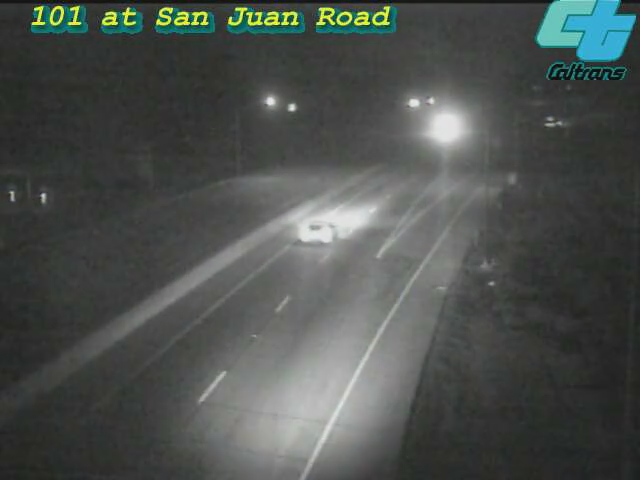vehicle: (279, 191, 359, 271), (418, 104, 468, 154), (532, 96, 582, 146)
